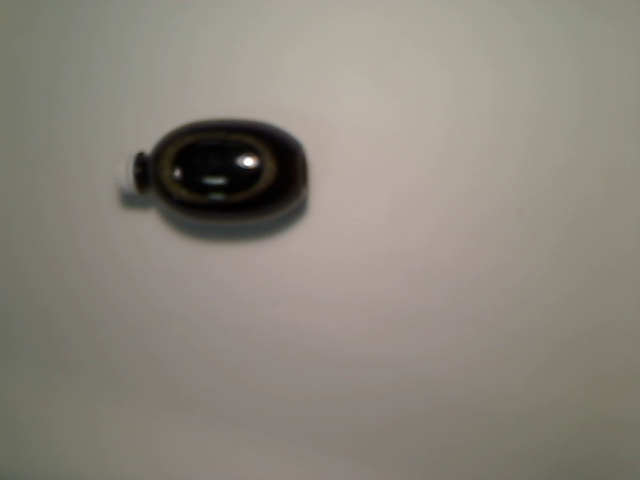plast_bottle: (117, 118, 309, 229)
